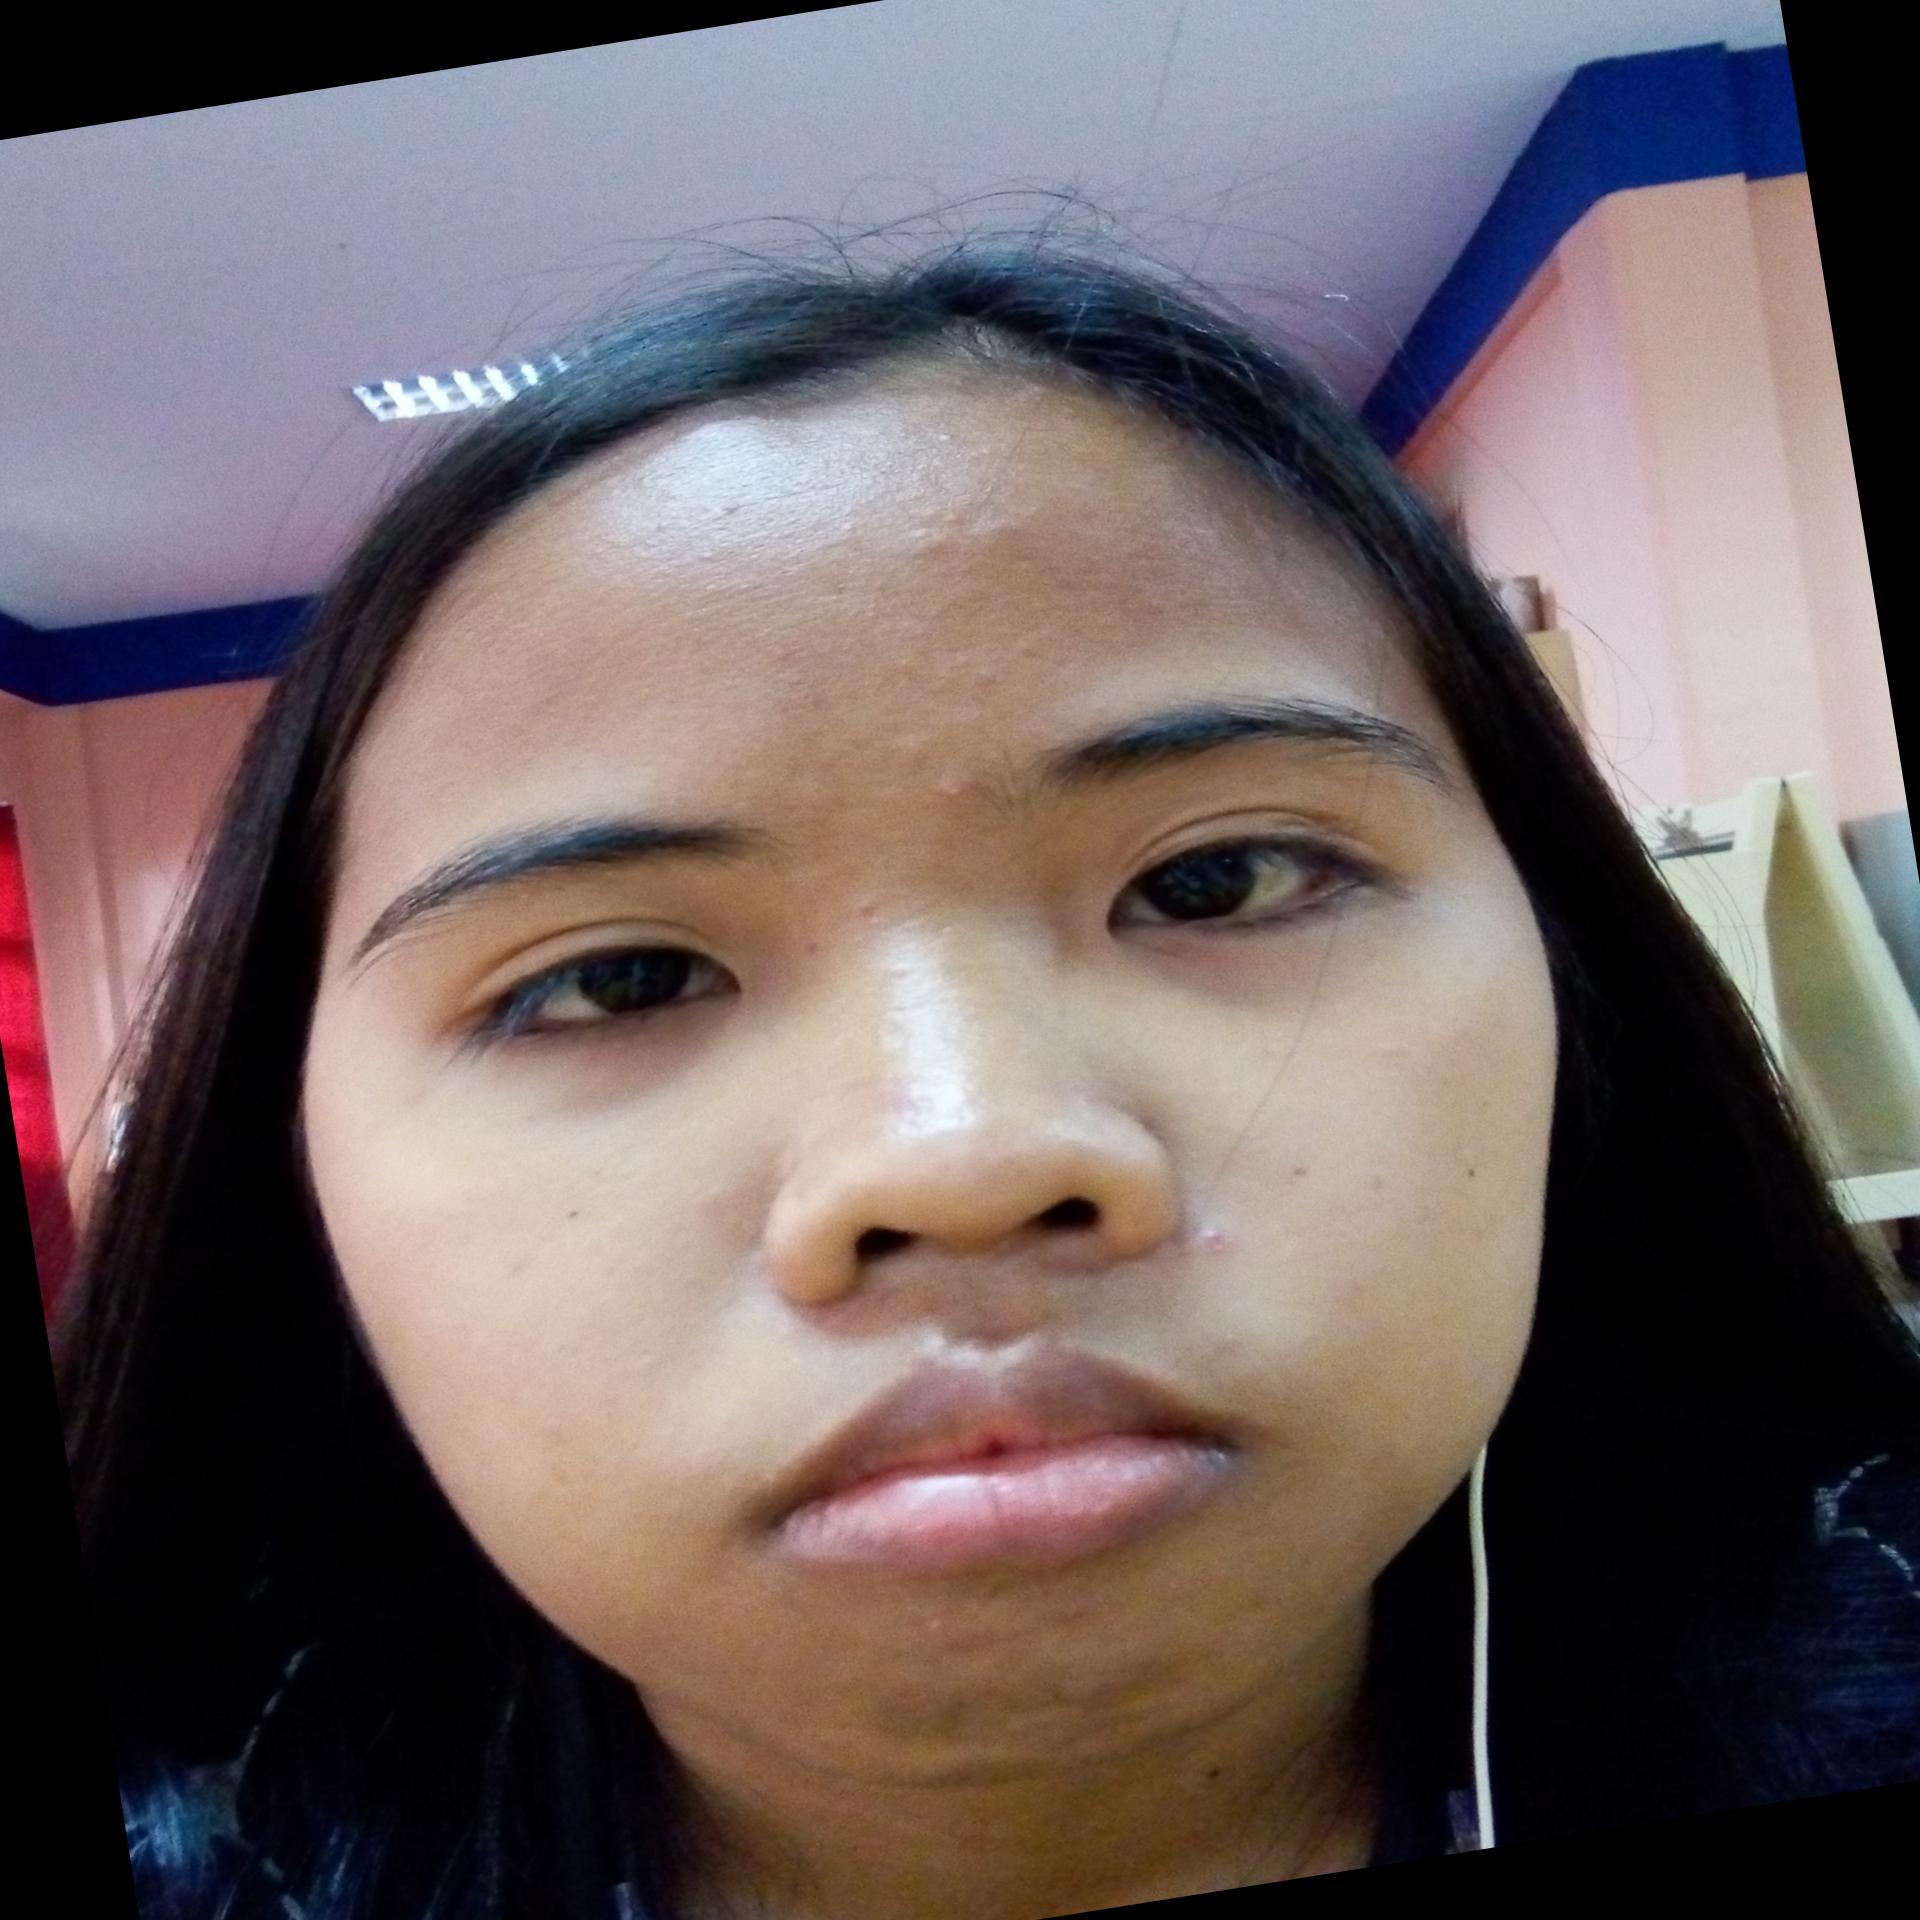Acne: (1171, 1204, 1259, 1269), (948, 635, 1044, 689), (960, 496, 1030, 570), (898, 499, 969, 564), (913, 408, 972, 462), (695, 480, 761, 526), (826, 886, 890, 932), (816, 512, 877, 543), (886, 733, 927, 781), (763, 626, 791, 679), (928, 772, 960, 809), (914, 1614, 948, 1640)
